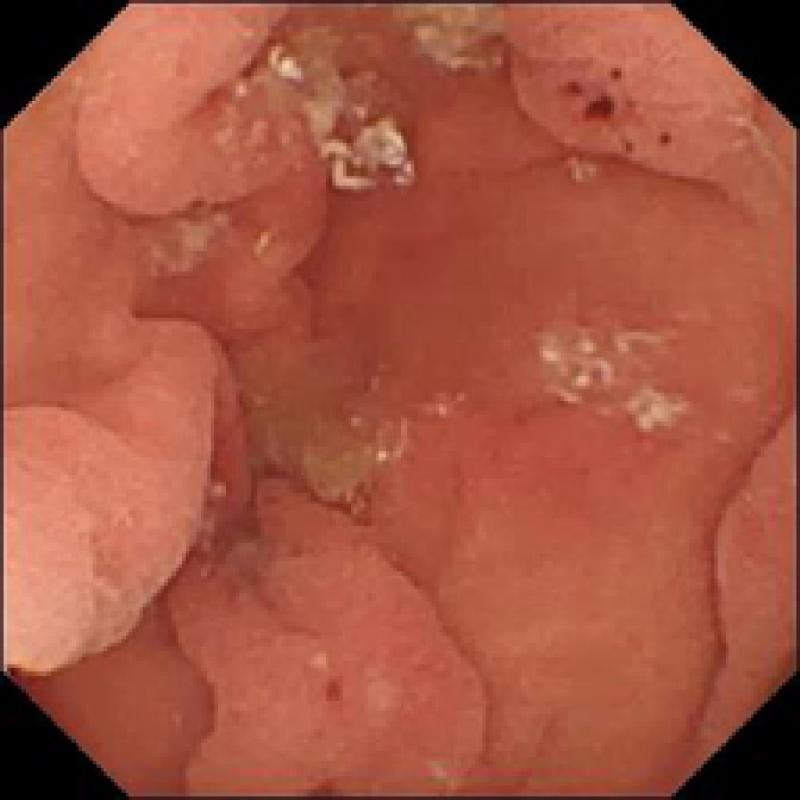bleeding: (557, 64, 675, 158)
